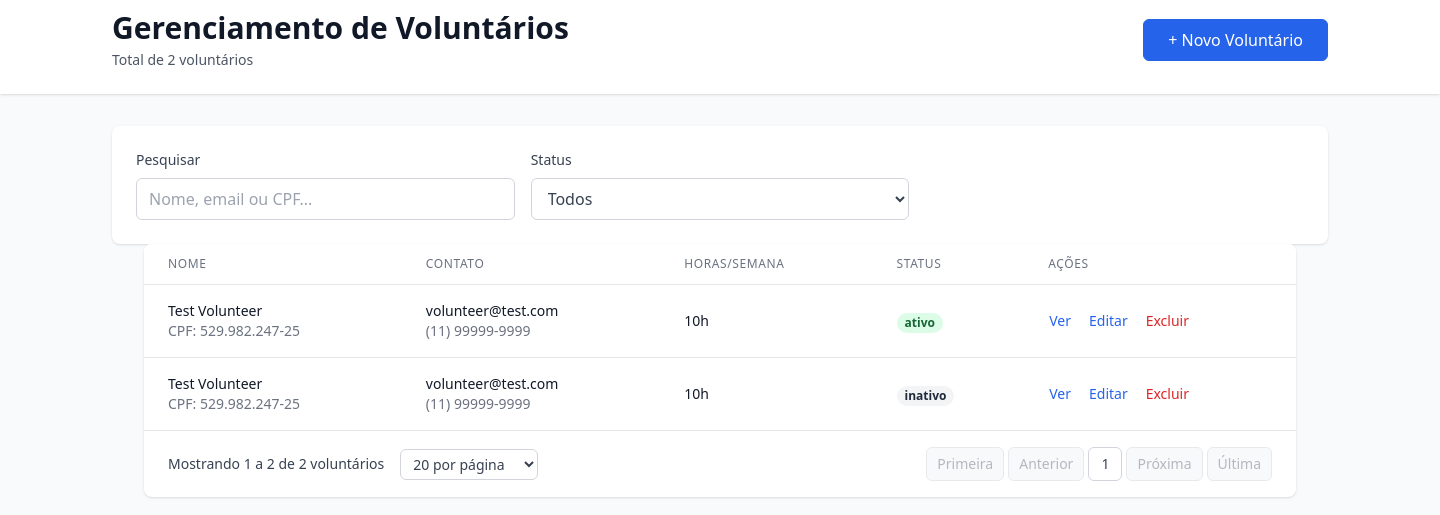
Test case: ONGVolunteersPage › Volunteers List Display › should update volunteer count when filtered
Check: the text "Total de 2 voluntários" is shown, box [112,50,253,69]
// Filter by status
Select "Ativo" in the 1st dropdown at (720, 199), box [531,178,909,220]
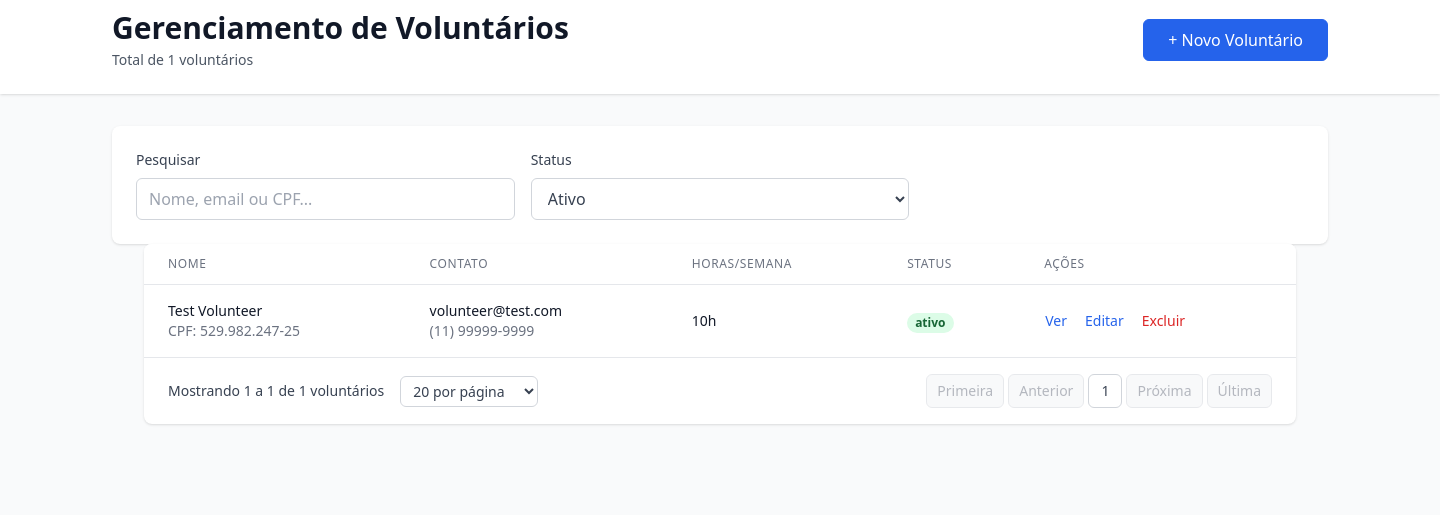
Check: the text "Total de 1 voluntários" is shown, box [112,50,253,69]
